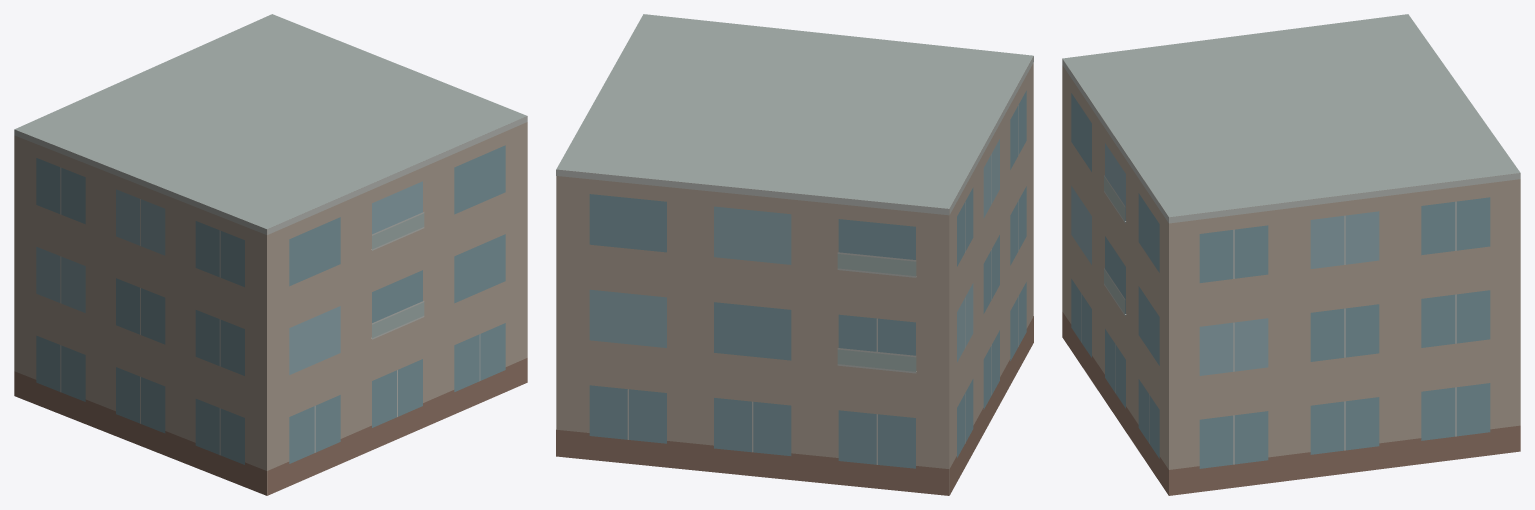
The model's file is survey-upis-32468707.glb.
3 renders of one model, left to right at view 1: azimuth 30°, elevation 25°; view 2: azimuth 150°, elevation 25°; view 3: azimuth 270°, elevation 25°, orthographic. The views are drawn at different scales.
Parts seen in each view (by area): view 1: survey-upis-32468707.tmp; view 2: survey-upis-32468707.tmp; view 3: survey-upis-32468707.tmp.
Part boxes in pixels (x1,y1,x2,y2): survey-upis-32468707.tmp: (14, 14, 527, 495); survey-upis-32468707.tmp: (556, 14, 1033, 495); survey-upis-32468707.tmp: (1062, 14, 1520, 495).
Size of the model in its own units: 17.15 by 10.95 by 16.34.
